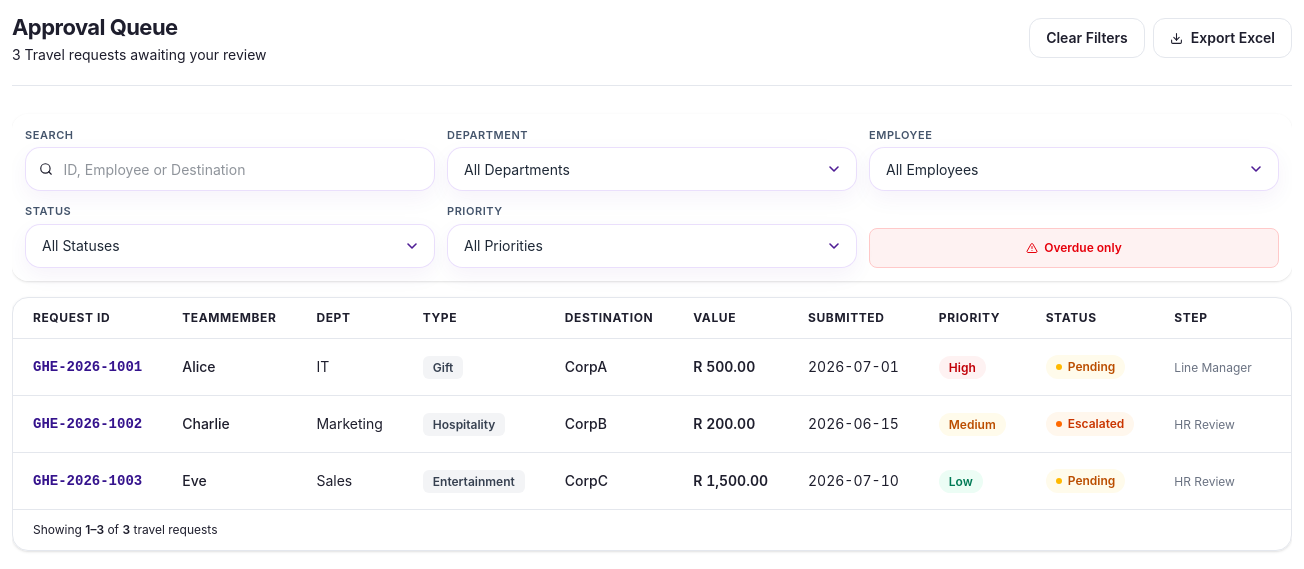
Test: ApprovalQueue › filters by priority
The width and height of the screenshot is (1304, 569).
Select "High" in the 4th dropdown showing "All Priorities" at (652, 246), box [447, 224, 857, 268]
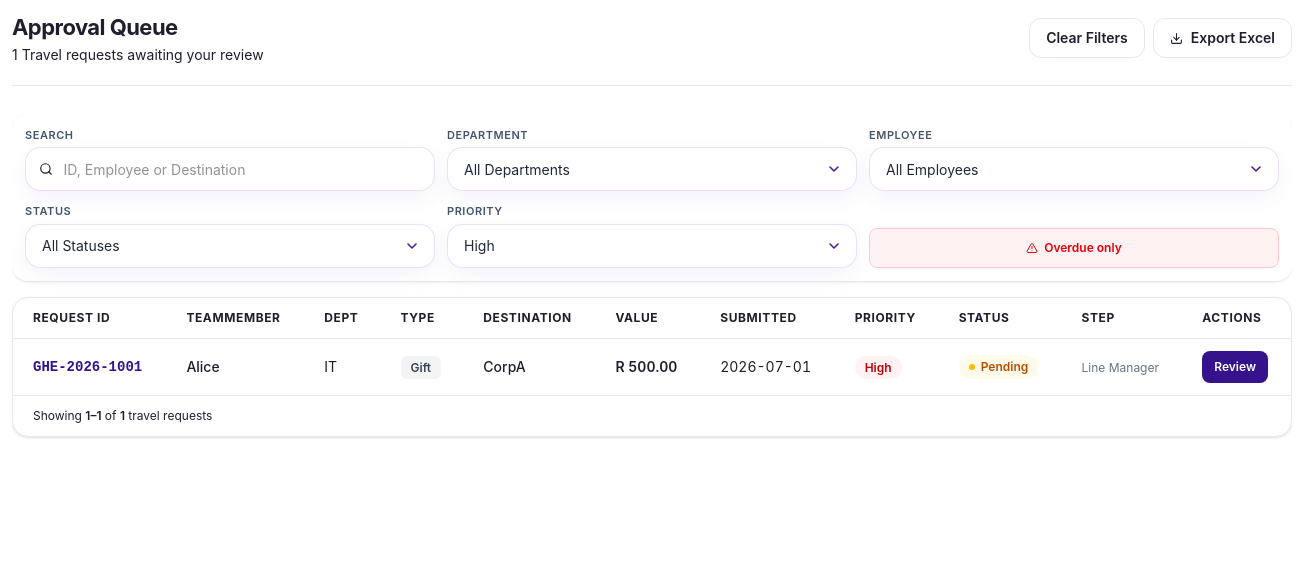
Expected: the text "GHE-2026-1003" is not shown
